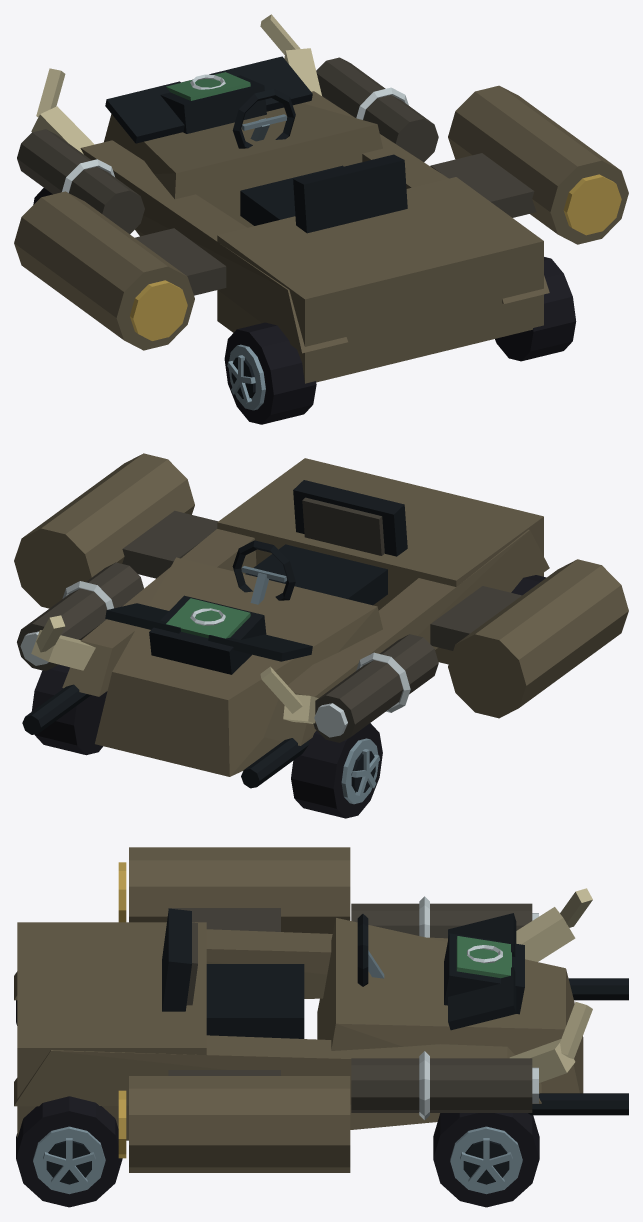
Rendered from kart.glb.
The picture shows the model from 3 angles, top to bottom: view 1: azimuth 30°, elevation 25°; view 2: azimuth 150°, elevation 25°; view 3: azimuth 270°, elevation 25°; orthographic projection. The views are drawn at different scales.
Parts seen in each view (by area): view 1: identity-gunship-gunship-armored-cargo-fuselage, identity-gunship-motif-plasma, identity-gunship-driver-cockpit, wheel-rear-left, identity-gunship-motif-scanner, wheel-rear-right, identity-gunship-motif-tusks; view 2: identity-gunship-gunship-armored-cargo-fuselage, identity-gunship-driver-cockpit, identity-gunship-motif-plasma, wheel-front-left, identity-gunship-motif-scanner, wheel-front-right, identity-gunship-motif-tusks; view 3: identity-gunship-gunship-armored-cargo-fuselage, identity-gunship-motif-plasma, identity-gunship-driver-cockpit, wheel-rear-right, wheel-front-right, identity-gunship-motif-tusks, identity-gunship-motif-scanner.
Boxes of the visible parts, left/top/right/bottom form: identity-gunship-gunship-armored-cargo-fuselage: left=14, top=56, right=628, bottom=383; identity-gunship-motif-plasma: left=17, top=57, right=438, bottom=233; identity-gunship-driver-cockpit: left=232, top=89, right=407, bottom=233; wheel-rear-left: left=224, top=322, right=316, bottom=424; identity-gunship-motif-scanner: left=160, top=72, right=266, bottom=133; wheel-rear-right: left=495, top=257, right=576, bottom=361; identity-gunship-motif-tusks: left=31, top=14, right=321, bottom=154; identity-gunship-gunship-armored-cargo-fuselage: left=14, top=453, right=628, bottom=788; identity-gunship-driver-cockpit: left=232, top=480, right=407, bottom=605; identity-gunship-motif-plasma: left=17, top=562, right=438, bottom=742; wheel-front-left: left=291, top=723, right=382, bottom=818; identity-gunship-motif-scanner: left=149, top=595, right=266, bottom=674; wheel-front-right: left=31, top=664, right=107, bottom=755; identity-gunship-motif-tusks: left=31, top=615, right=318, bottom=723; identity-gunship-gunship-armored-cargo-fuselage: left=14, top=847, right=628, bottom=1172; identity-gunship-motif-plasma: left=351, top=896, right=538, bottom=1120; identity-gunship-driver-cockpit: left=162, top=908, right=384, bottom=1038; wheel-rear-right: left=16, top=1096, right=122, bottom=1207; wheel-front-right: left=433, top=1113, right=539, bottom=1207; identity-gunship-motif-tusks: left=509, top=888, right=592, bottom=1082; identity-gunship-motif-scanner: left=444, top=933, right=524, bottom=1014.
Size of the model in its own units: 3 by 1.09 by 2.89.
